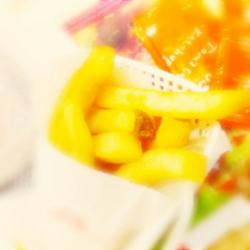fries: (39, 53, 218, 194)
